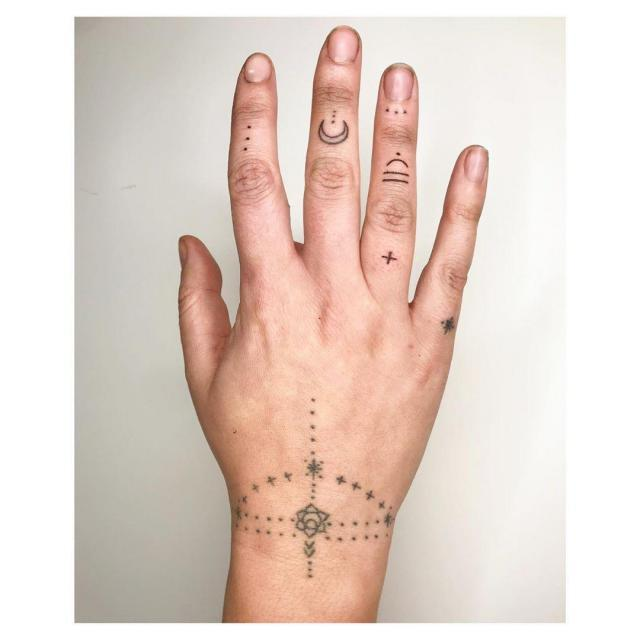hand: (178, 25, 491, 587)
